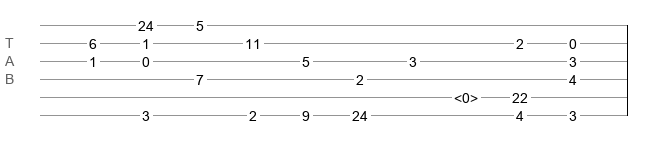0: (142, 54, 150, 64), (569, 36, 577, 46)
1: (89, 54, 97, 64), (142, 36, 150, 46)
11: (245, 36, 261, 46)
2: (249, 108, 257, 118), (356, 72, 364, 82), (516, 36, 524, 46)
22: (512, 90, 528, 100)
24: (138, 18, 154, 28), (352, 108, 368, 118)
3: (142, 108, 150, 118), (409, 54, 417, 64), (569, 108, 577, 118), (569, 54, 577, 64)
4: (516, 108, 524, 118), (569, 72, 577, 82)
5: (196, 18, 204, 28), (302, 54, 310, 64)
6: (89, 36, 97, 46)
7: (196, 72, 204, 82)
9: (302, 108, 310, 118)
harmonic: (454, 90, 478, 100)
